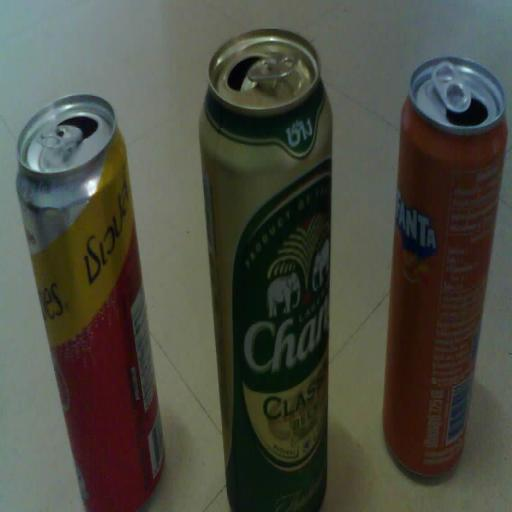canned: (193, 18, 339, 512), (6, 67, 168, 512), (361, 36, 512, 494)
